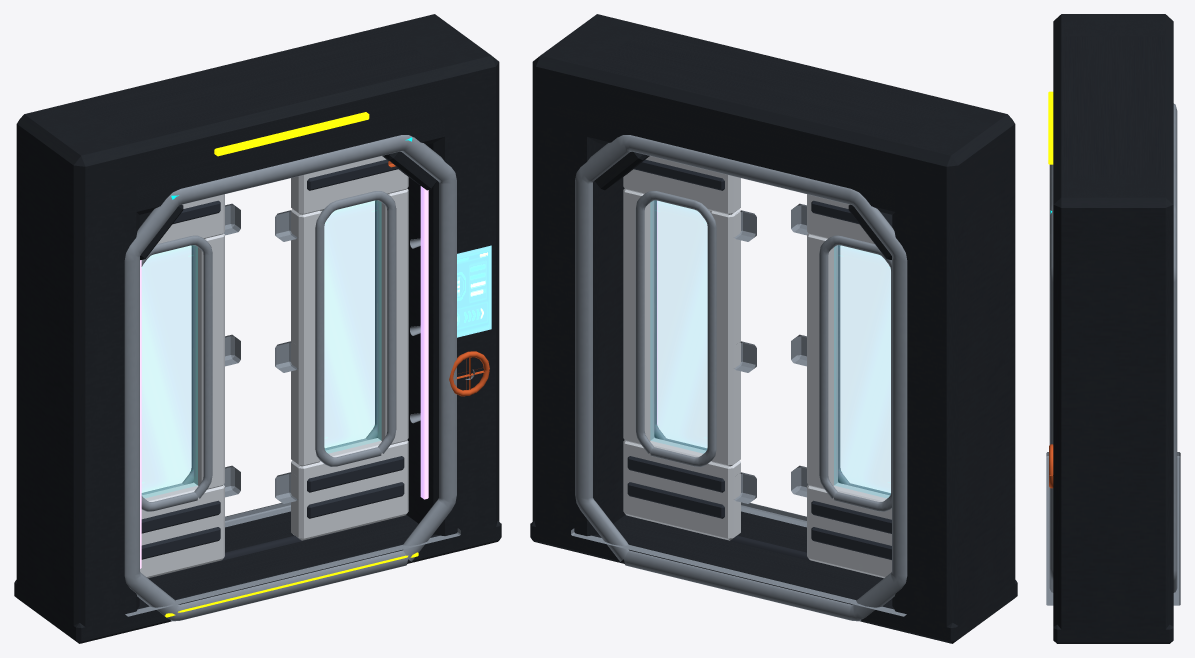
Rendered from corridor_door_r1_05.glb.
3 renders of one model, left to right at view 1: azimuth 30°, elevation 25°; view 2: azimuth 150°, elevation 25°; view 3: azimuth 270°, elevation 25°, orthographic. The views are drawn at different scales.
Visible parts, largest first — view 1: Corridor05_DeconArchGunmetalCoaming, Corridor05_MachinedDeconNozzlesAndTeeth, Corridor05_WhitePanoramicDoorLeaves, Corridor05_PanoramicTranslucentDoorGlass, Corridor05_CarbonSlateDoorTrim, Corridor05_UVVioletDeconStrips, Corridor05_BiometricOLEDKiosk, Corridor05_AmberBeaconLED, Corridor05_SignalOrangePurgeHandlesAndWheel, Corridor05_CharcoalDeconSeal; view 2: Corridor05_DeconArchGunmetalCoaming, Corridor05_MachinedDeconNozzlesAndTeeth, Corridor05_WhitePanoramicDoorLeaves, Corridor05_PanoramicTranslucentDoorGlass, Corridor05_CarbonSlateDoorTrim, Corridor05_CharcoalDeconSeal; view 3: Corridor05_DeconArchGunmetalCoaming, Corridor05_MachinedDeconNozzlesAndTeeth, Corridor05_AmberBeaconLED, Corridor05_SignalOrangePurgeHandlesAndWheel.
Part boxes in pixels (x1,y1,x2,y2): Corridor05_DeconArchGunmetalCoaming: [14, 14, 501, 643]; Corridor05_MachinedDeconNozzlesAndTeeth: [124, 135, 474, 621]; Corridor05_WhitePanoramicDoorLeaves: [140, 156, 408, 578]; Corridor05_PanoramicTranslucentDoorGlass: [142, 201, 380, 497]; Corridor05_CarbonSlateDoorTrim: [141, 159, 404, 559]; Corridor05_UVVioletDeconStrips: [140, 186, 428, 568]; Corridor05_BiometricOLEDKiosk: [457, 245, 491, 337]; Corridor05_AmberBeaconLED: [165, 112, 418, 617]; Corridor05_SignalOrangePurgeHandlesAndWheel: [388, 161, 489, 396]; Corridor05_CharcoalDeconSeal: [148, 521, 383, 578]; Corridor05_DeconArchGunmetalCoaming: [530, 14, 1017, 643]; Corridor05_MachinedDeconNozzlesAndTeeth: [571, 135, 907, 621]; Corridor05_WhitePanoramicDoorLeaves: [623, 156, 891, 578]; Corridor05_PanoramicTranslucentDoorGlass: [651, 201, 890, 497]; Corridor05_CarbonSlateDoorTrim: [627, 159, 891, 559]; Corridor05_CharcoalDeconSeal: [648, 521, 883, 578]; Corridor05_DeconArchGunmetalCoaming: [1053, 14, 1173, 643]; Corridor05_MachinedDeconNozzlesAndTeeth: [1046, 103, 1180, 605]; Corridor05_AmberBeaconLED: [1048, 91, 1053, 164]; Corridor05_SignalOrangePurgeHandlesAndWheel: [1049, 444, 1053, 488].
Size of the model in its own units: 2.55 by 2.78 by 0.76.
11 materials, 11 textured.
